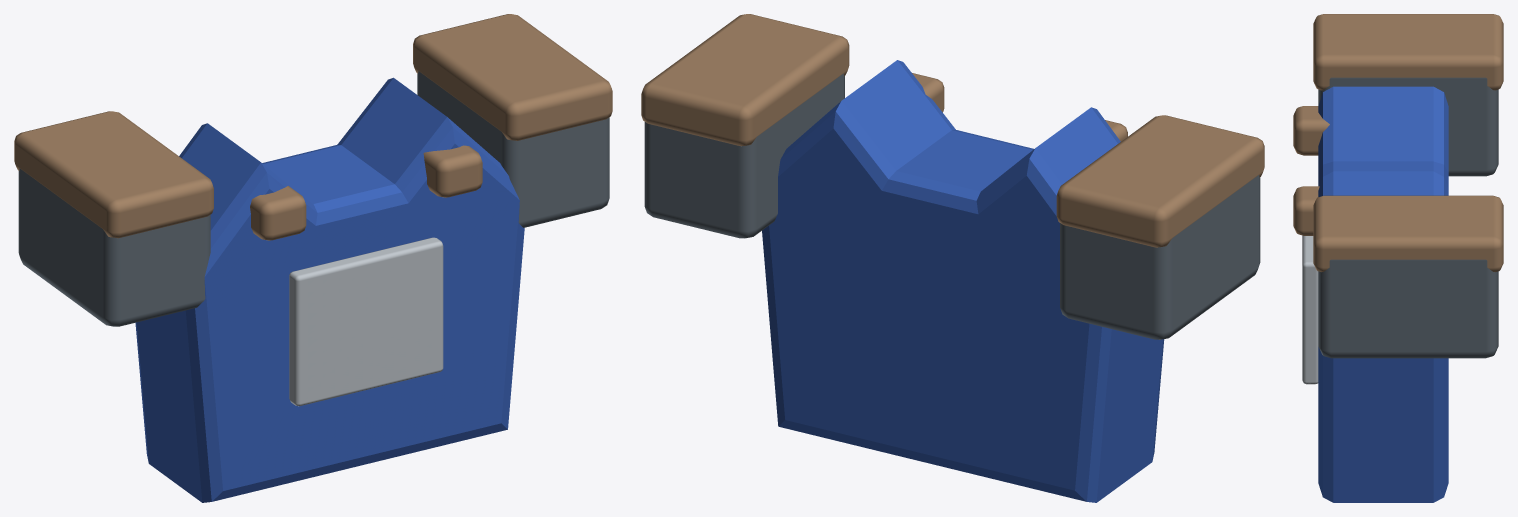
File: arena-shooter-map-kit-armour-heavy-6bba6f84__23116.glb
3 views of the same model, side by side, from view 1: azimuth 30°, elevation 25°; view 2: azimuth 150°, elevation 25°; view 3: azimuth 270°, elevation 25° (orthographic). The views are drawn at different scales.
Visible parts, largest first — view 1: armour-heavy; view 2: armour-heavy; view 3: armour-heavy.
Part boxes in pixels (x1=…): armour-heavy: x1=14, y1=14, x2=612, y2=502; armour-heavy: x1=641, y1=14, x2=1264, y2=502; armour-heavy: x1=1293, y1=14, x2=1503, y2=502.
Size of the model in its own units: 1.09 by 0.68 by 0.42.
